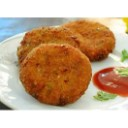cutlet: (22, 44, 94, 102), (65, 20, 116, 58), (19, 29, 81, 58)
